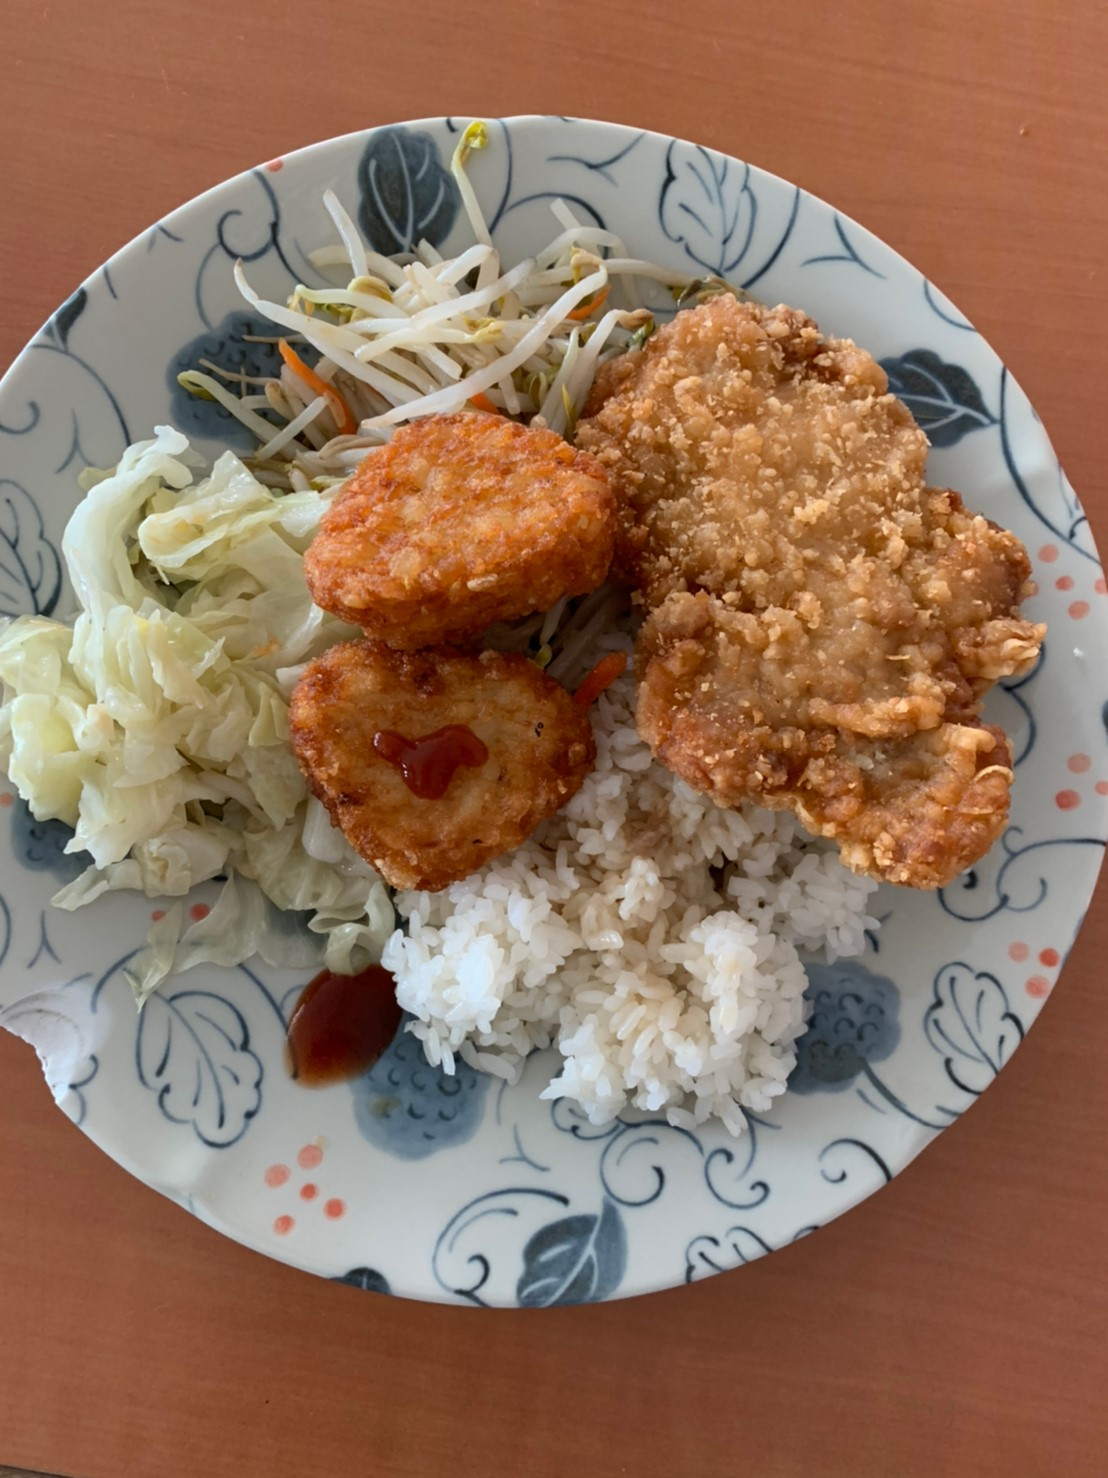chinese_cabbage: (45, 464, 293, 908)
fried_chicken: (613, 298, 1006, 848)
mung_bean_sprouts: (319, 260, 603, 413)
rice: (449, 806, 819, 1073)
triangle_hash_brown: (291, 422, 612, 893)
